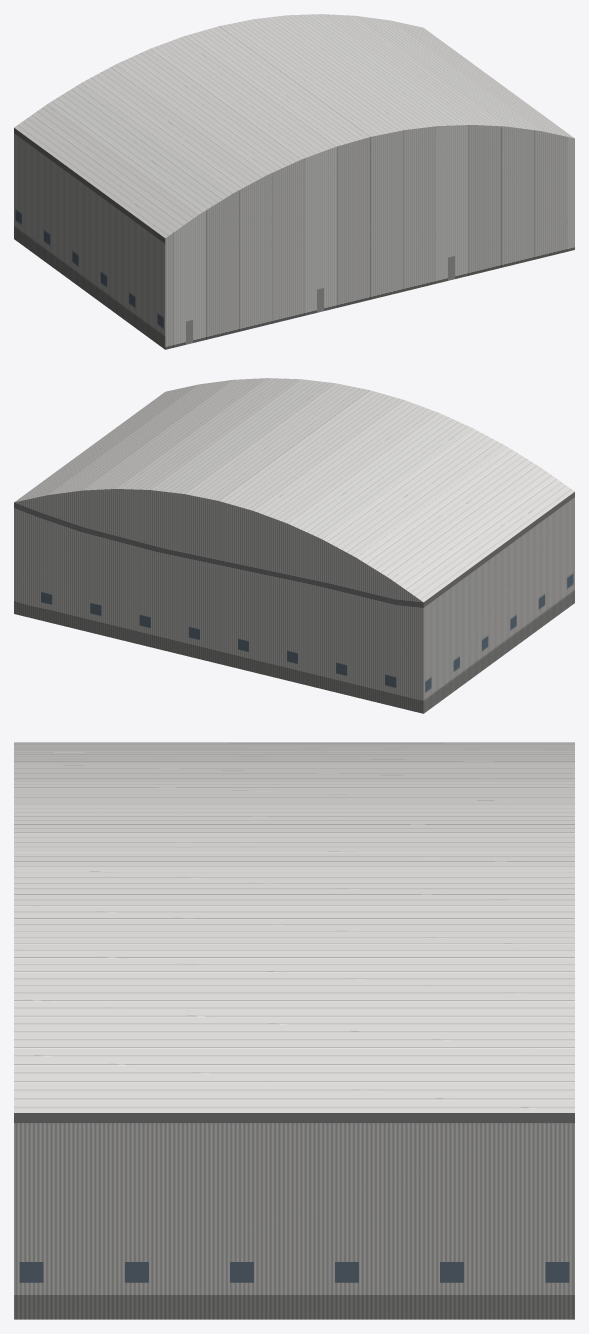
File: khua_hangar_50x32.glb
The picture shows the model from 3 angles, top to bottom: view 1: azimuth 30°, elevation 25°; view 2: azimuth 150°, elevation 25°; view 3: azimuth 270°, elevation 25°; orthographic projection. The views are drawn at different scales.
Parts seen in each view (by area): view 1: khua_hangar_50x32_hangar_roof, khua_hangar_50x32_hangar_door, khua_hangar_50x32_hangar_wall; view 2: khua_hangar_50x32_hangar_wall, khua_hangar_50x32_hangar_roof; view 3: khua_hangar_50x32_hangar_roof, khua_hangar_50x32_hangar_wall.
Part boxes in pixels (x1,y1,x2,y2): khua_hangar_50x32_hangar_roof: (14,14,574,238); khua_hangar_50x32_hangar_door: (165,125,574,349); khua_hangar_50x32_hangar_wall: (14,128,165,349); khua_hangar_50x32_hangar_wall: (14,489,574,713); khua_hangar_50x32_hangar_roof: (14,378,574,602); khua_hangar_50x32_hangar_roof: (14,742,574,1112); khua_hangar_50x32_hangar_wall: (14,1113,574,1319).
Size of the model in its own units: 50 by 19 by 32.
3 materials, 3 textured.
